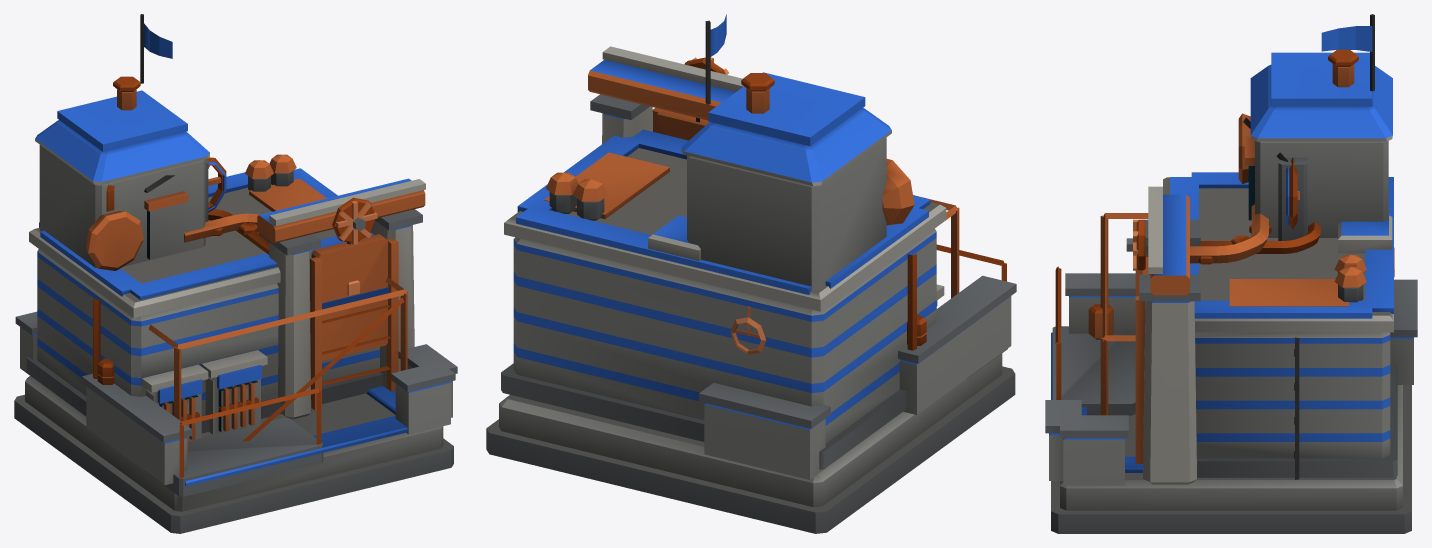
The picture shows the model from 3 angles, left to right: view 1: azimuth 30°, elevation 25°; view 2: azimuth 150°, elevation 25°; view 3: azimuth 270°, elevation 25°; orthographic projection. The views are drawn at different scales.
Visible parts, largest first — view 1: body, deployGate, scaffoldFrame, spinWheel, spinFlywheel, swayFlag; view 2: body, deployGate, scaffoldFrame; view 3: body, scaffoldFrame, swayFlag, spinWheel, spinFlywheel.
Part boxes in pixels (x1=…): body: x1=14, y1=14, x2=457, y2=533; deployGate: x1=311, y1=234, x2=390, y2=385; scaffoldFrame: x1=148, y1=277, x2=407, y2=441; spinWheel: x1=332, y1=197, x2=377, y2=244; spinFlywheel: x1=206, y1=157, x2=226, y2=212; swayFlag: x1=144, y1=23, x2=172, y2=58; body: x1=486, y1=20, x2=1016, y2=533; deployGate: x1=653, y1=109, x2=709, y2=140; scaffoldFrame: x1=913, y1=195, x2=959, y2=298; body: x1=1045, y1=14, x2=1417, y2=533; scaffoldFrame: x1=1100, y1=213, x2=1148, y2=415; swayFlag: x1=1321, y1=26, x2=1372, y2=51; spinWheel: x1=1126, y1=219, x2=1145, y2=270; spinFlywheel: x1=1286, y1=157, x2=1299, y2=229.
Bounding box in the file's own units: 2.12 × 2.61 × 2.06.
